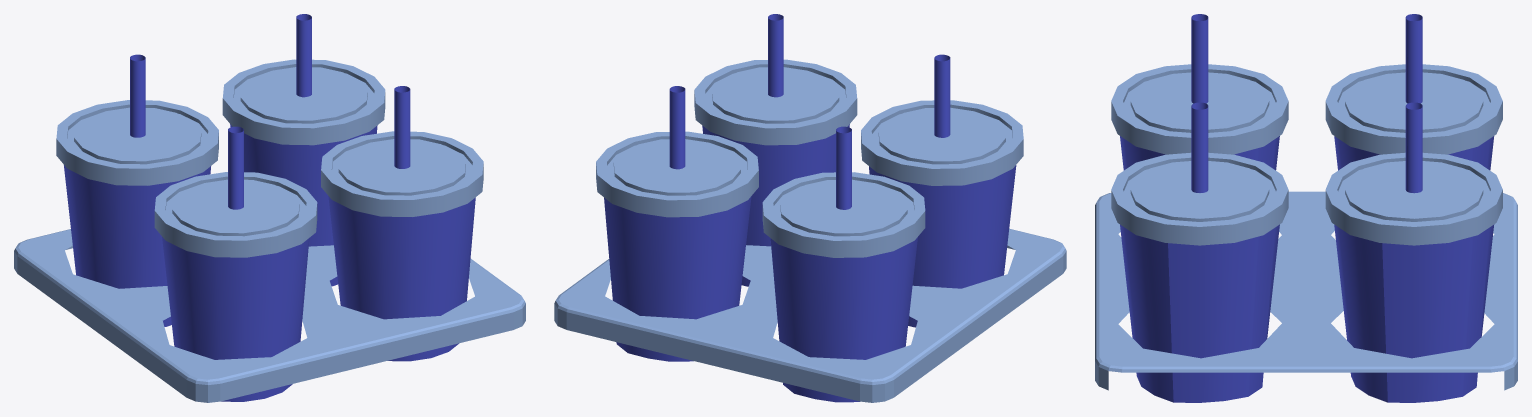
The model's file is beverage_stack_revize.fbx.
3 renders of one model, left to right at view 1: azimuth 30°, elevation 25°; view 2: azimuth 150°, elevation 25°; view 3: azimuth 270°, elevation 25°, orthographic. The views are drawn at different scales.
Parts seen in each view (by area): view 1: bevetage_stack; view 2: bevetage_stack; view 3: bevetage_stack.
Part boxes in pixels (x1,y1,x2,y2): bevetage_stack: (14, 14, 525, 402); bevetage_stack: (554, 14, 1066, 402); bevetage_stack: (1095, 14, 1517, 402).
Size of the model in its own units: 276 by 195 by 276.
